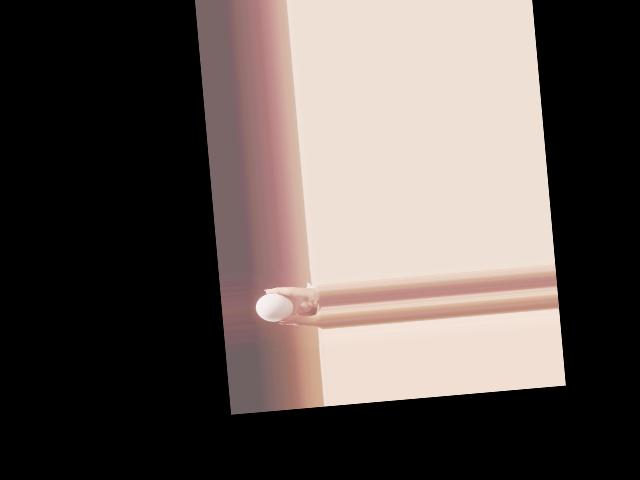egg: (255, 292, 295, 323)
